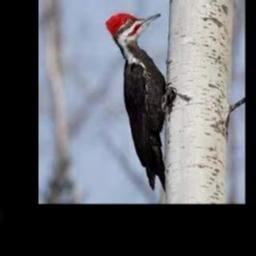Woodpecker: (105, 13, 173, 192)
